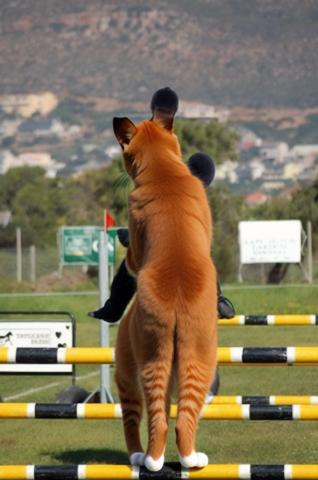cat: (113, 117, 218, 471)
person: (88, 87, 235, 322)
